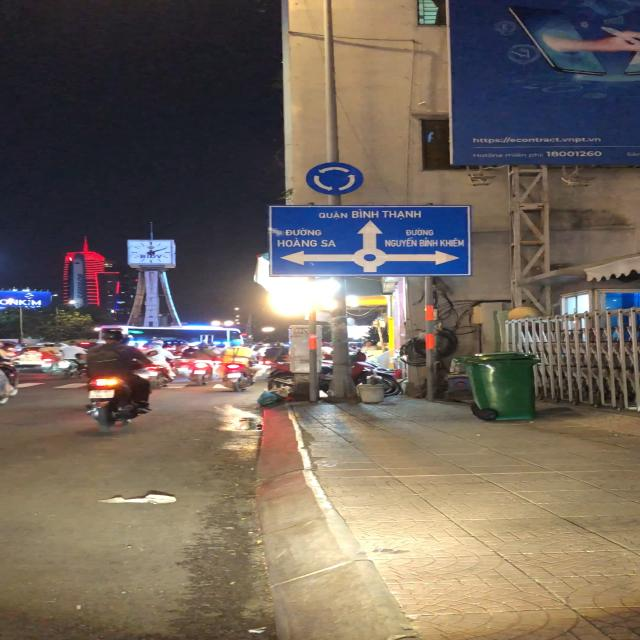Bien bao noi giao nhau chay theo vong xuyen: (305, 161, 365, 195)
